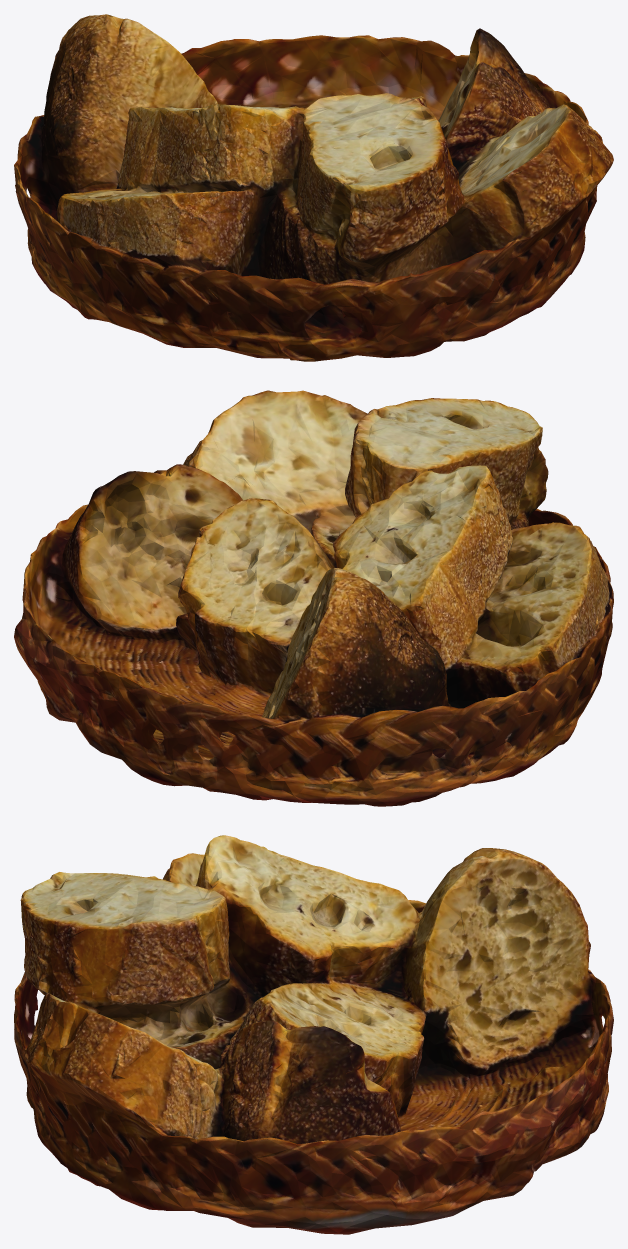
Rendered from Bread.glb.
3 views of the same model, one above another, from view 1: azimuth 30°, elevation 25°; view 2: azimuth 150°, elevation 25°; view 3: azimuth 270°, elevation 25° (orthographic). The views are drawn at different scales.
Parts seen in each view (by area): view 1: mesh_0; view 2: mesh_0; view 3: mesh_0.
Part boxes in pixels (x1=…): mesh_0: x1=14, y1=14, x2=613, y2=361; mesh_0: x1=14, y1=390, x2=613, y2=806; mesh_0: x1=14, y1=835, x2=613, y2=1234.
Bounding box in the file's own units: 24751 × 10053 × 24192.
1 material, 1 textured.
